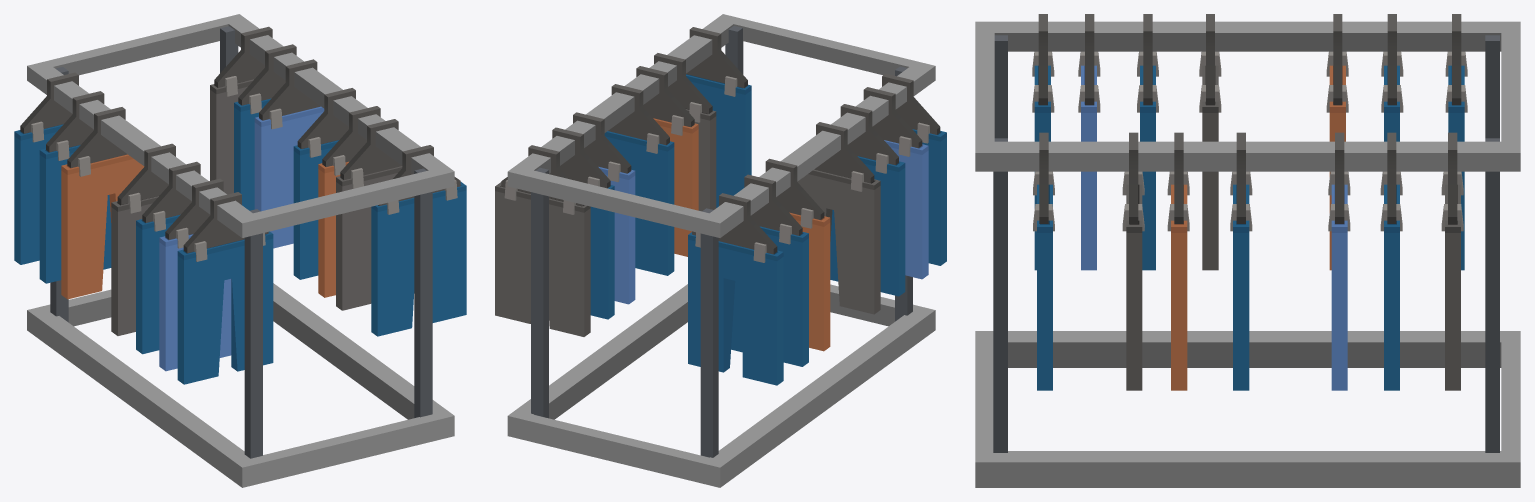
Rendered from ClothesRack.glb.
3 views of the same model, side by side, from view 1: azimuth 30°, elevation 25°; view 2: azimuth 150°, elevation 25°; view 3: azimuth 270°, elevation 25° (orthographic). The views are drawn at different scales.
Visible parts, largest first — view 1: SI_Prop_ClothesRack_02; view 2: SI_Prop_ClothesRack_02; view 3: SI_Prop_ClothesRack_02.
Boxes of the visible parts, <box> form: SI_Prop_ClothesRack_02: <box>14,14,466,487</box>; SI_Prop_ClothesRack_02: <box>495,14,946,487</box>; SI_Prop_ClothesRack_02: <box>975,14,1520,487</box>.
Bounding box in the file's own units: 0.0238 × 0.0216 × 0.0314.
1 material, 1 textured.
